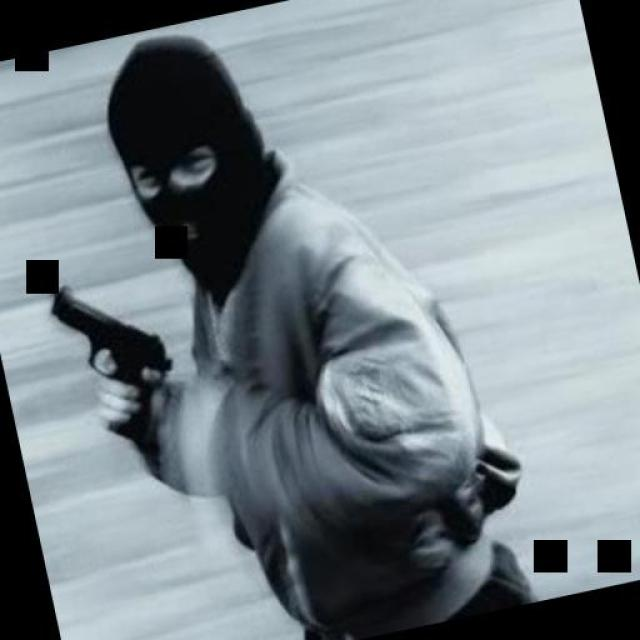gun: (42, 260, 182, 461)
